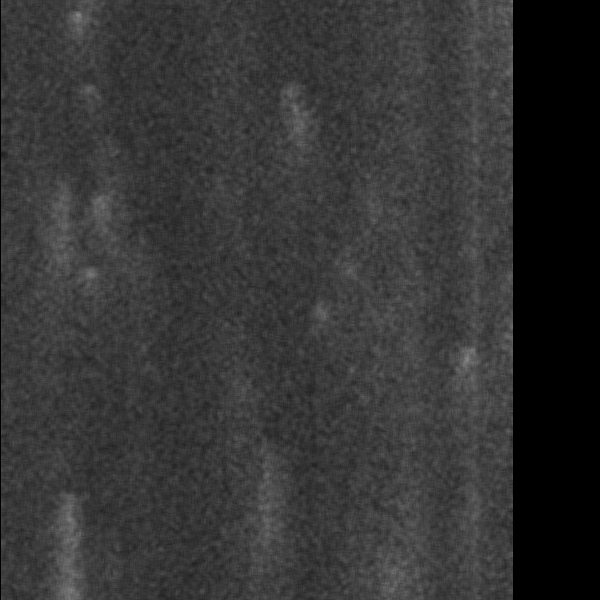spark: (282, 80, 307, 204), (43, 535, 91, 598), (87, 189, 111, 245), (380, 561, 406, 597), (454, 344, 476, 386), (61, 8, 89, 40), (80, 264, 103, 298)
